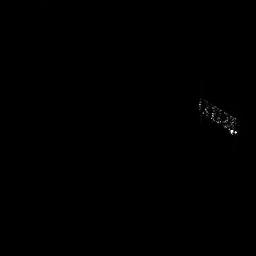ship: (195, 95, 238, 136)
